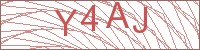4: (79, 4, 98, 32)
A: (105, 1, 132, 29)
J: (132, 5, 149, 33)
Y: (53, 9, 77, 37)
